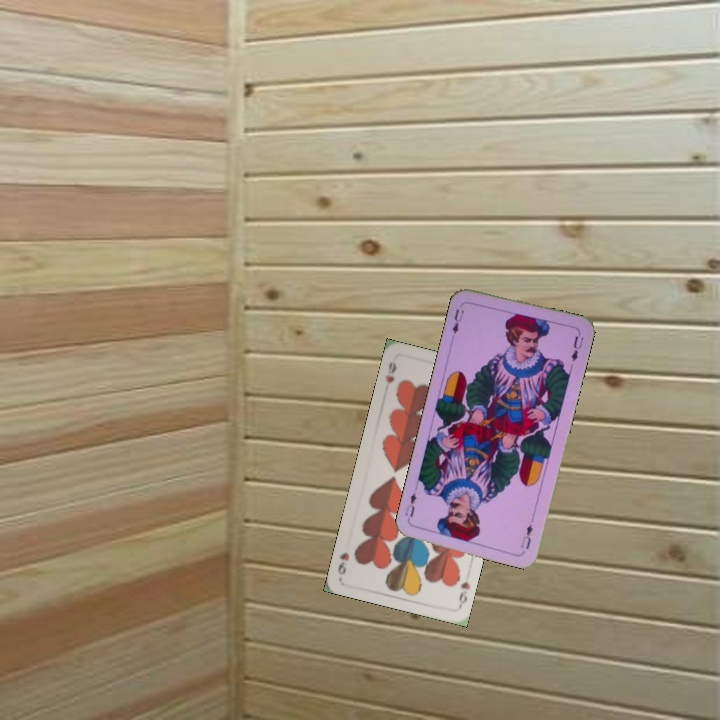EU: (448, 305, 467, 341), (517, 520, 535, 552)
H9: (455, 577, 473, 609), (381, 358, 399, 386)
